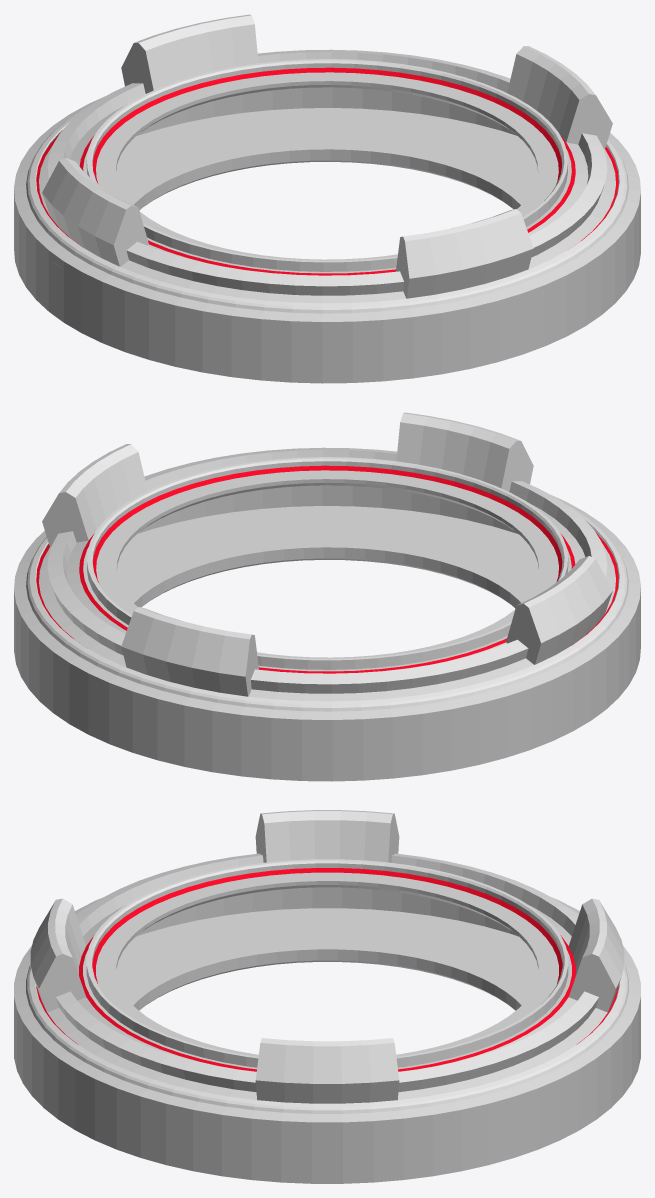
Rendered from m6ArenaL2Top.fbx.
3 renders of one model, top to bottom at view 1: azimuth 30°, elevation 25°; view 2: azimuth 150°, elevation 25°; view 3: azimuth 270°, elevation 25°, orthographic.
Visible parts, largest first — view 1: Cylinder.051; view 2: Cylinder.051; view 3: Cylinder.051.
Boxes of the visible parts, bbox=[...] form: Cylinder.051: bbox=[14, 14, 640, 383]; Cylinder.051: bbox=[14, 412, 640, 781]; Cylinder.051: bbox=[14, 810, 640, 1183].
Bounding box in the file's own units: 434 × 95.64 × 434.
